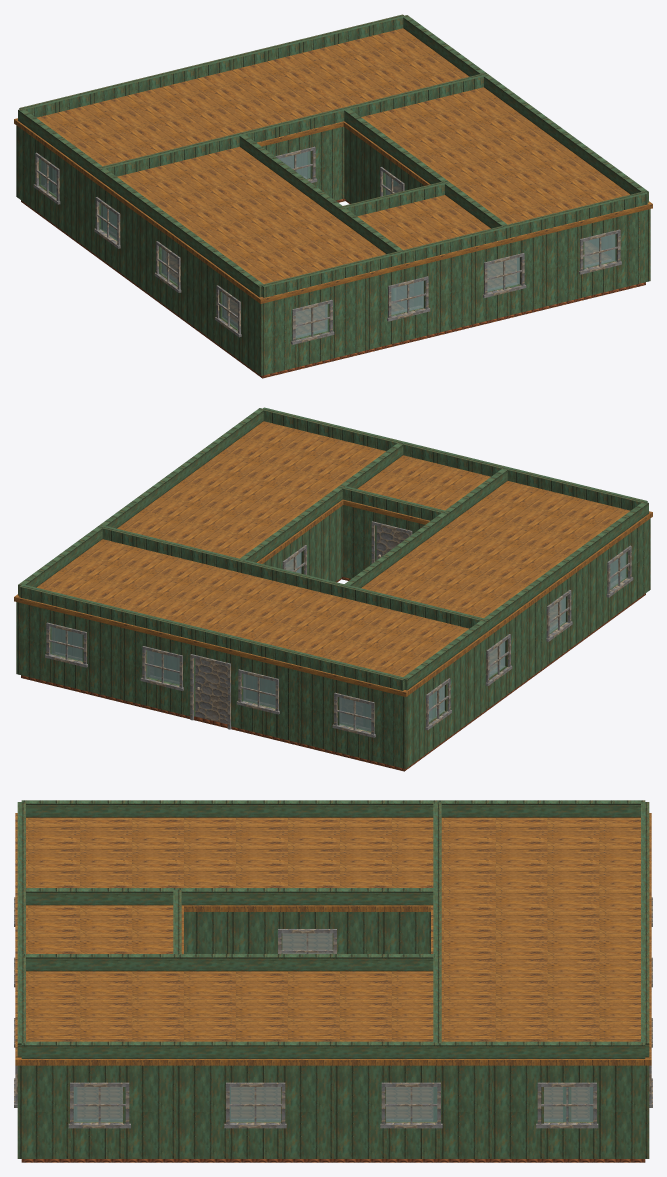
Rendered from sun-well-court.gltf.
3 renders of one model, top to bottom at view 1: azimuth 30°, elevation 25°; view 2: azimuth 150°, elevation 25°; view 3: azimuth 270°, elevation 25°, orthographic. The views are drawn at different scales.
Visible parts, largest first — view 1: roof-L0-terracotta, exterior-L0-plaster, roof-L0-plaster, trim-L0-dark-wood, glazing-L0-glass, floor-L0-floor, interior-L0-interior; view 2: roof-L0-terracotta, exterior-L0-plaster, roof-L0-plaster, trim-L0-dark-wood, glazing-L0-glass, door-leaf-L0-dark-wood (×2), floor-L0-floor, interior-L0-interior; view 3: roof-L0-terracotta, exterior-L0-plaster, roof-L0-plaster, floor-L0-floor, glazing-L0-glass, trim-L0-dark-wood.
Boxes of the visible parts, x1,y1,x2,y2 form: roof-L0-terracotta: (14,28,652,303); exterior-L0-plaster: (16,125,650,375); roof-L0-plaster: (18,14,648,297); trim-L0-dark-wood: (33,146,621,344); glazing-L0-glass: (40,151,615,338); floor-L0-floor: (21,185,645,378); interior-L0-interior: (49,151,420,305); roof-L0-terracotta: (14,421,652,696); exterior-L0-plaster: (16,505,650,768); roof-L0-plaster: (18,407,648,690); trim-L0-dark-wood: (45,521,633,737); glazing-L0-glass: (51,552,626,731); door-leaf-L0-dark-wood (×2): (195,526,408,724); floor-L0-floor: (21,556,645,771); interior-L0-interior: (56,526,436,727); roof-L0-terracotta: (15,813,651,1065); exterior-L0-plaster: (17,912,649,1158); roof-L0-plaster: (17,800,649,1058); floor-L0-floor: (21,934,645,1162); glazing-L0-glass: (73,933,593,1121); trim-L0-dark-wood: (14,897,652,1128).
Bounding box in the file's own units: 11.3 × 2.53 × 12.3.
7 materials, 6 textured.
